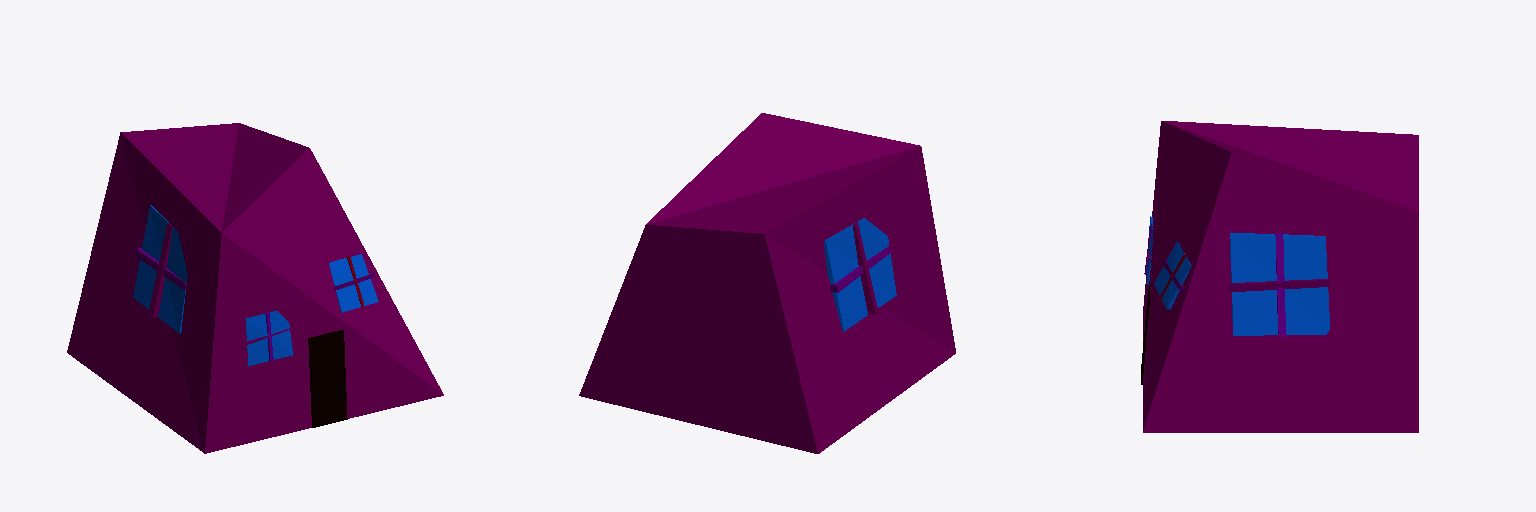
Rendered from house_3.obj.
3 views of the same model, side by side, from view 1: azimuth 30°, elevation 25°; view 2: azimuth 150°, elevation 25°; view 3: azimuth 270°, elevation 25° (orthographic).
Visible parts, largest first — view 1: Cube, Cube.001, Cube.013, Cube.007, Cube.012, Cube.002; view 2: Cube, Cube.001, Cube.002, Cube.003; view 3: Cube, Cube.006, Cube.012, Cube.004, Cube.005.
Boxes of the visible parts, x1=… form: Cube: x1=67, y1=123, x2=443, y2=453; Cube.001: x1=133, y1=205, x2=187, y2=333; Cube.013: x1=308, y1=330, x2=347, y2=427; Cube.007: x1=245, y1=310, x2=292, y2=365; Cube.012: x1=329, y1=254, x2=378, y2=312; Cube.002: x1=148, y1=224, x2=172, y2=317; Cube: x1=579, y1=113, x2=955, y2=453; Cube.001: x1=824, y1=218, x2=896, y2=331; Cube.002: x1=853, y1=222, x2=878, y2=314; Cube.003: x1=830, y1=246, x2=890, y2=292; Cube: x1=1143, y1=121, x2=1418, y2=432; Cube.006: x1=1230, y1=233, x2=1329, y2=335; Cube.012: x1=1154, y1=241, x2=1191, y2=309; Cube.004: x1=1228, y1=278, x2=1329, y2=291; Cube.005: x1=1275, y1=233, x2=1285, y2=336.
Size of the model in its own units: 5.68 by 5.37 by 5.71.